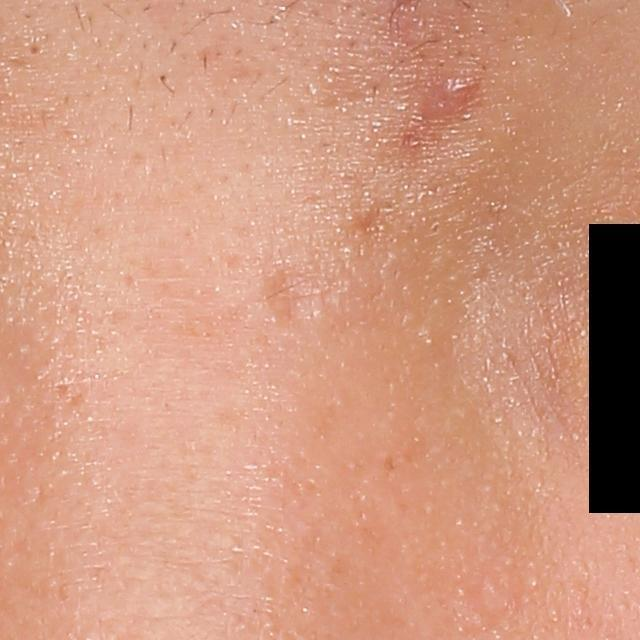atrophic_scar: (263, 266, 332, 329)
comedo: (23, 38, 44, 59)
papule: (410, 73, 479, 124)
